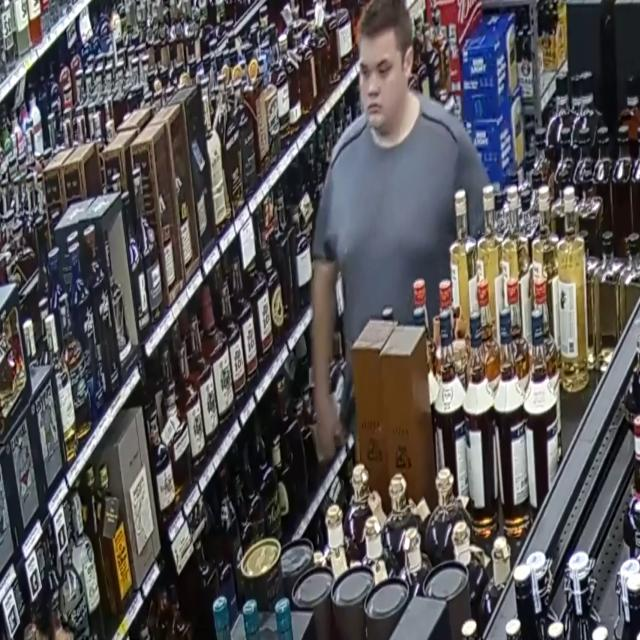normal: (290, 0, 503, 496)
